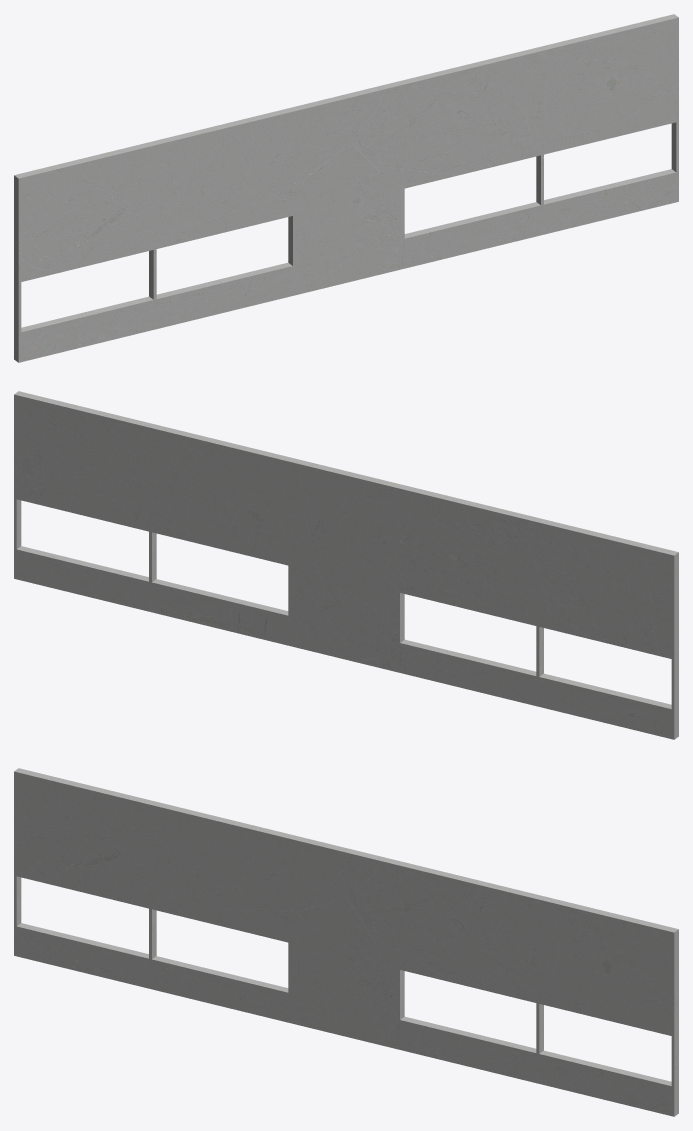
File: BridgeWall2.FBX
3 views of the same model, one above another, from view 1: azimuth 30°, elevation 25°; view 2: azimuth 150°, elevation 25°; view 3: azimuth 330°, elevation 25° (orthographic).
Parts seen in each view (by area): view 1: BridgeWall2; view 2: BridgeWall2; view 3: BridgeWall2.
Part boxes in pixels (x1,y1,x2,y2): BridgeWall2: (14,14,678,362); BridgeWall2: (14,391,678,739); BridgeWall2: (14,768,678,1116).
Bounding box in the file's own units: 2456 × 30 × 655.
